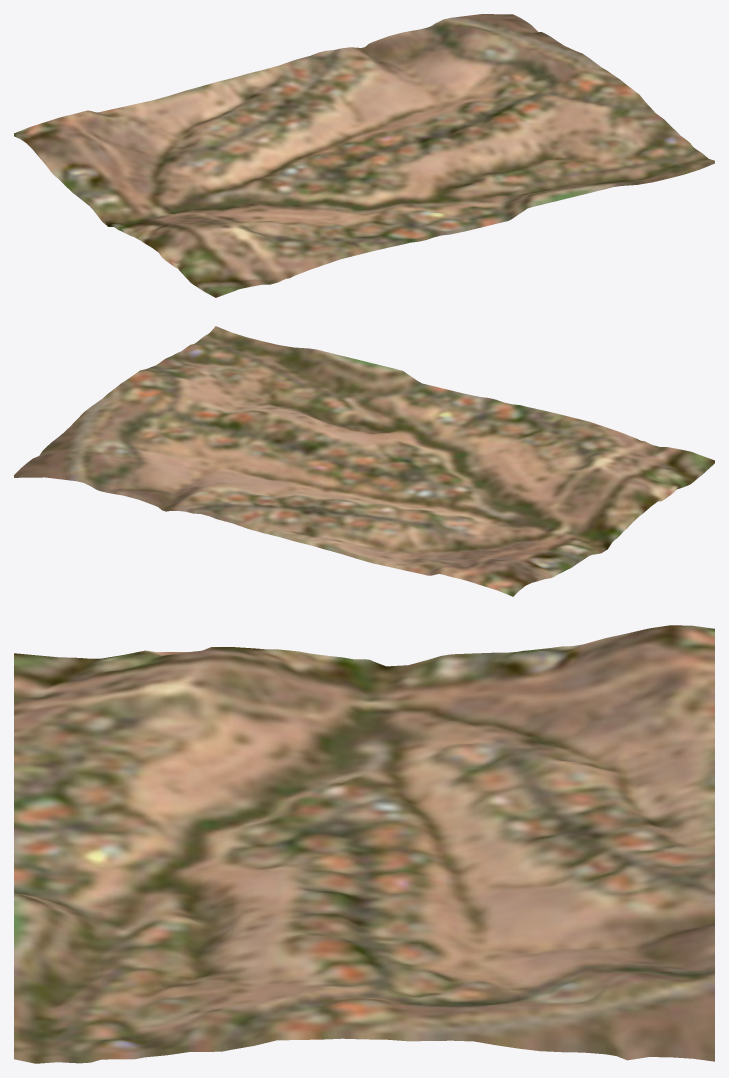
File: terrain_r6_c0_lod1.glb
3 views of the same model, one above another, from view 1: azimuth 30°, elevation 25°; view 2: azimuth 150°, elevation 25°; view 3: azimuth 270°, elevation 25° (orthographic). The views are drawn at different scales.
Parts seen in each view (by area): view 1: terrain_r6_c0_lod1; view 2: terrain_r6_c0_lod1; view 3: terrain_r6_c0_lod1.
Boxes of the visible parts, x1=… form: terrain_r6_c0_lod1: x1=14, y1=14, x2=714, y2=297; terrain_r6_c0_lod1: x1=14, y1=326, x2=714, y2=596; terrain_r6_c0_lod1: x1=14, y1=625, x2=714, y2=1063.
Bounding box in the file's own units: 1125 × 79.18 × 787.
Materials: 1 (1 with a texture image).
